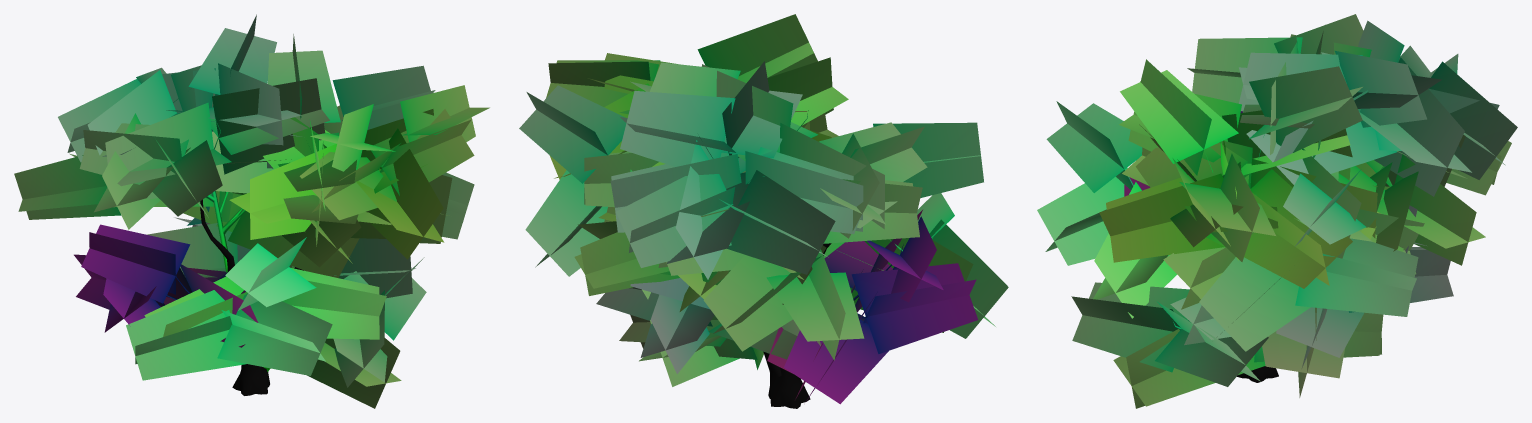
The model's file is M_Realistic12_11.fbx.
3 views of the same model, side by side, from view 1: azimuth 30°, elevation 25°; view 2: azimuth 150°, elevation 25°; view 3: azimuth 270°, elevation 25° (orthographic). The views are drawn at different scales.
Visible parts, largest first — view 1: Tree_11; view 2: Tree_11; view 3: Tree_11.
Boxes of the visible parts, x1,y1,x2,y2 form: Tree_11: (14, 14, 489, 408); Tree_11: (519, 14, 1008, 408); Tree_11: (1037, 14, 1517, 408).
Size of the model in its own units: 1346 by 1044 by 1302.
